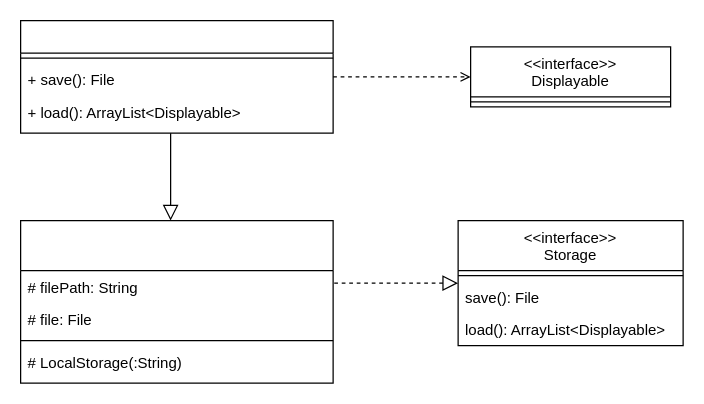
Some shapes in this 704 by 404 pixel diagram are drawn without their labels. The box of each missing label's shape, as (x1, y1, x2, y2) in pixels:
TopicsStorage: (19, 19, 333, 133)
{abstract} LocalStorage: (19, 219, 333, 383)
